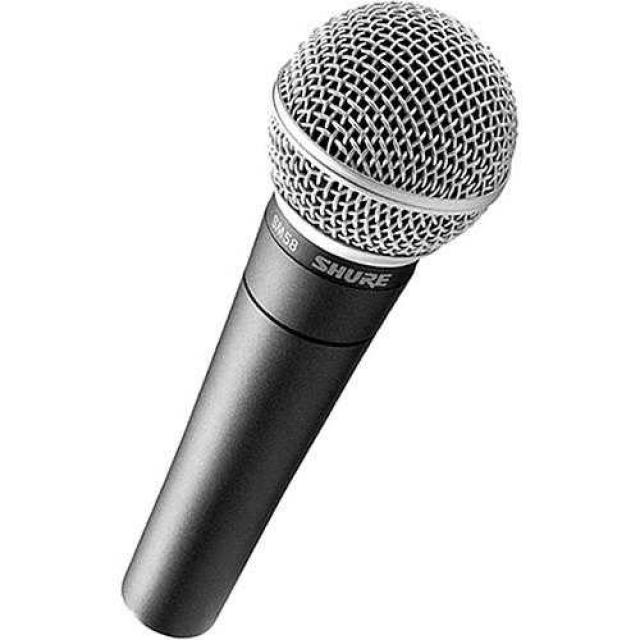microphone: (124, 6, 518, 634)
